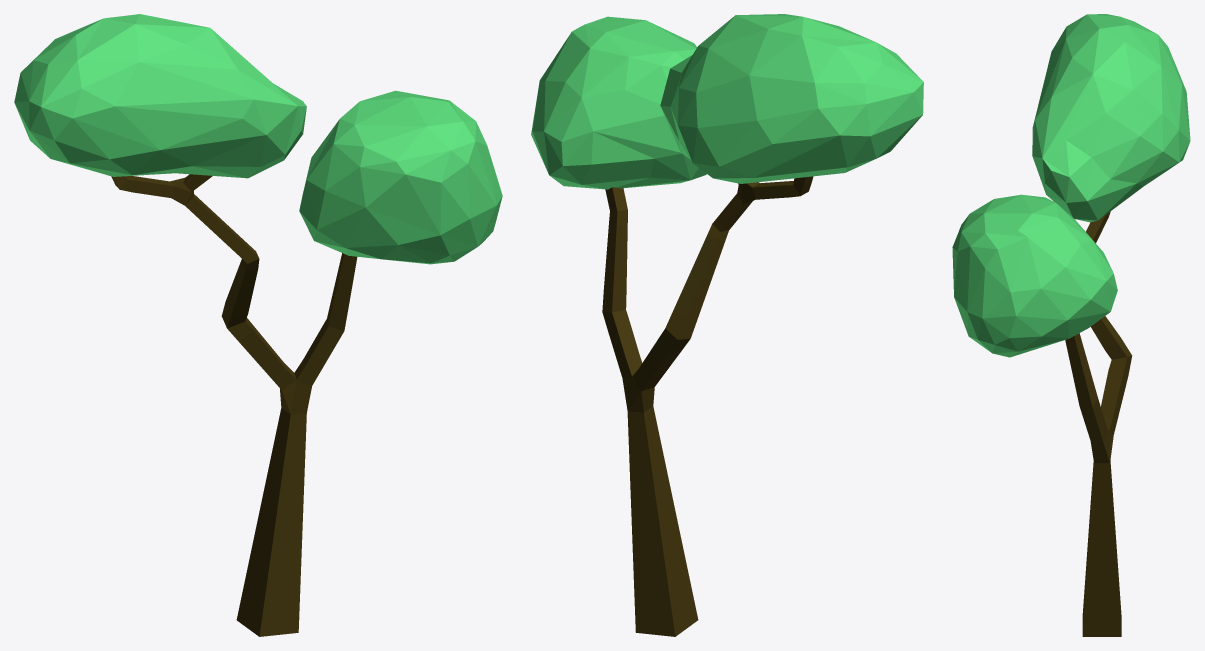
The model's file is lowtree1.fbx.
3 views of the same model, side by side, from view 1: azimuth 30°, elevation 25°; view 2: azimuth 150°, elevation 25°; view 3: azimuth 270°, elevation 25° (orthographic). The views are drawn at different scales.
Parts seen in each view (by area): view 1: Icosphere; view 2: Icosphere; view 3: Icosphere.
Part boxes in pixels (left/top/right/bottom): Icosphere: left=14, top=14, right=502, bottom=636; Icosphere: left=531, top=14, right=923, bottom=636; Icosphere: left=952, top=14, right=1190, bottom=636.
Bounding box in the file's own units: 106 × 153 × 60.78.
